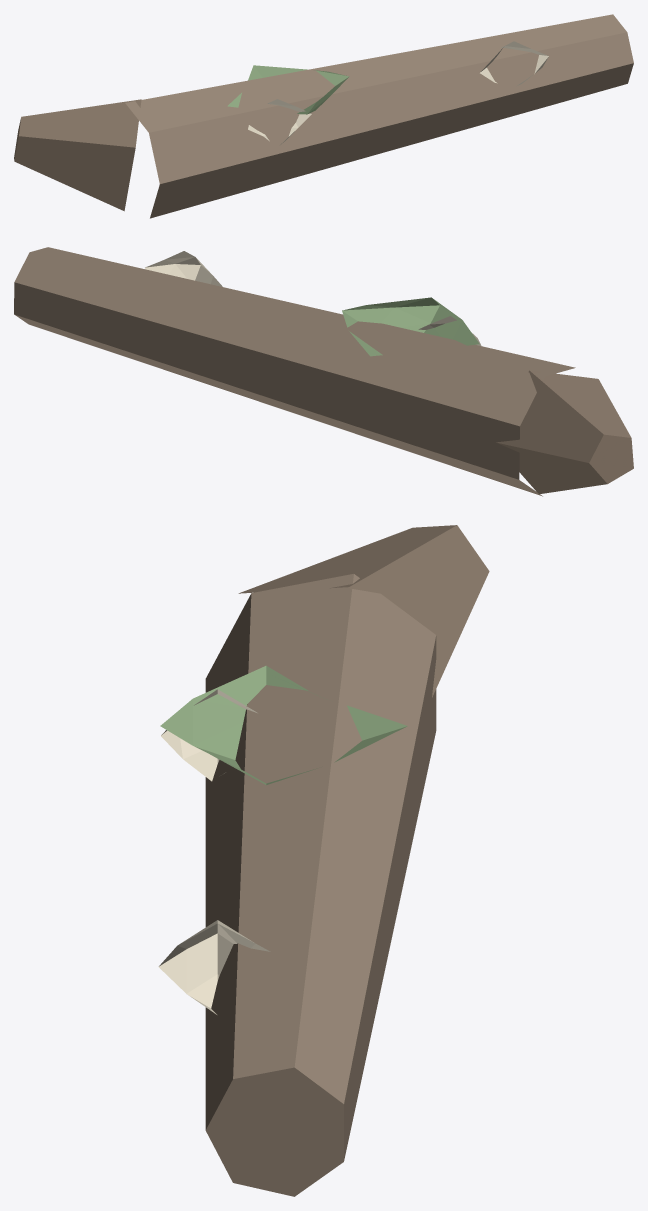
File: log_v00.glb
3 views of the same model, one above another, from view 1: azimuth 30°, elevation 25°; view 2: azimuth 150°, elevation 25°; view 3: azimuth 270°, elevation 25° (orthographic). The views are drawn at different scales.
Visible parts, largest first — view 1: lod0; view 2: lod0; view 3: lod0.
Part boxes in pixels (x1,y1,x2,y2): lod0: (14, 14, 633, 218); lod0: (14, 247, 633, 496); lod0: (158, 525, 489, 1196).
Size of what is drawn, in the model's own units: 2.17 by 0.4445 by 0.5455.
